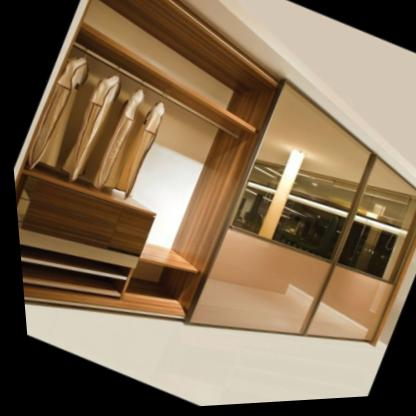Closet: (11, 0, 416, 351)
